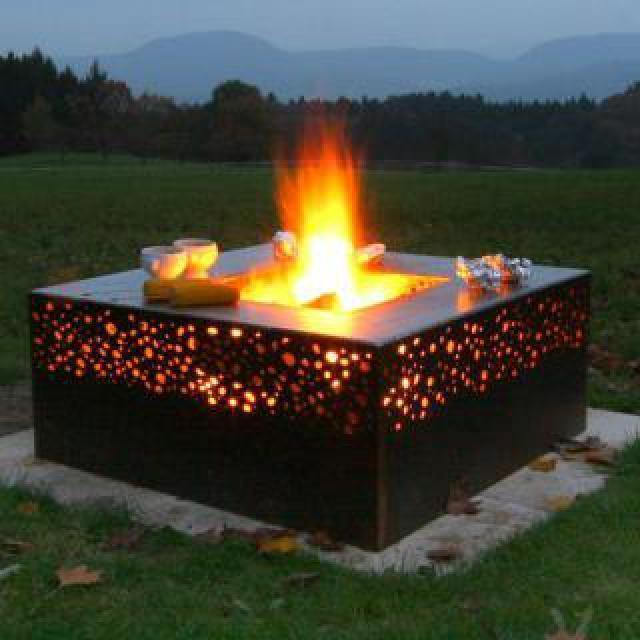Fire: (245, 140, 408, 312)
